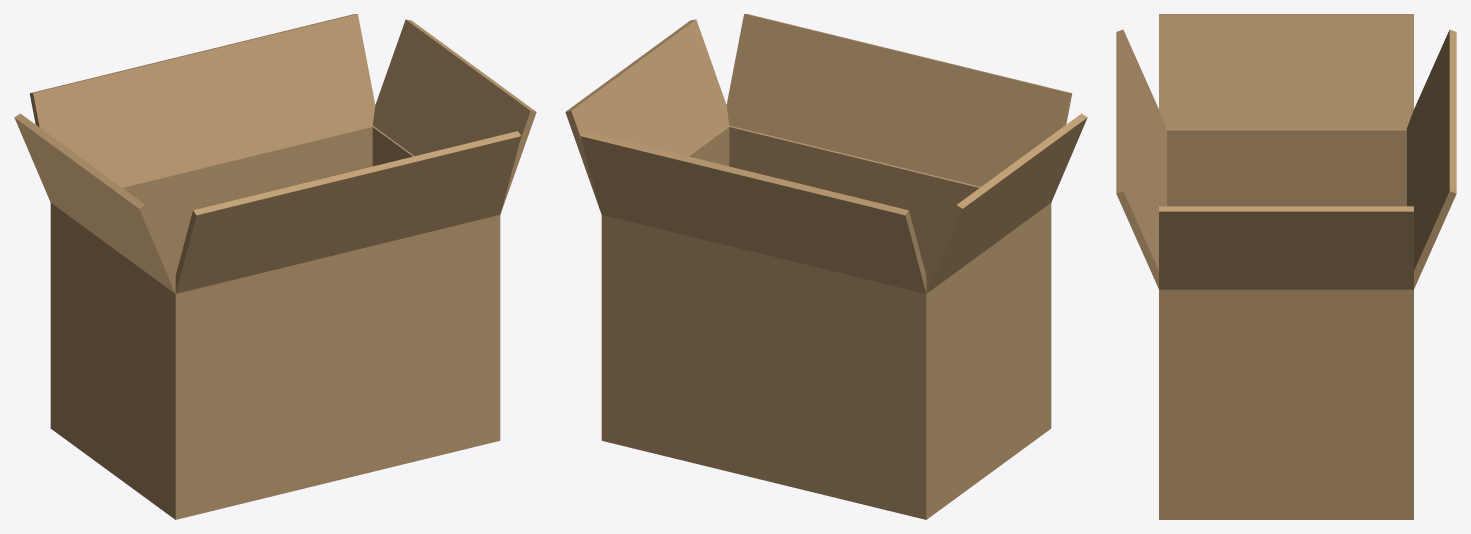
Rendered from carton_open.glb.
3 views of the same model, side by side, from view 1: azimuth 30°, elevation 25°; view 2: azimuth 150°, elevation 25°; view 3: azimuth 270°, elevation 25° (orthographic).
Visible parts, largest first — view 1: PK_carton_open; view 2: PK_carton_open; view 3: PK_carton_open.
Part boxes in pixels (x1,y1,x2,y2): PK_carton_open: [14, 14, 536, 519]; PK_carton_open: [565, 14, 1087, 519]; PK_carton_open: [1116, 14, 1456, 519].
Size of the model in its own units: 0.6606 by 0.5122 by 0.4806.
